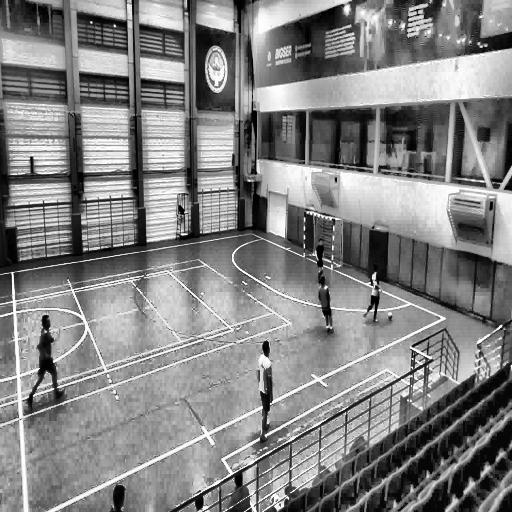ball: (388, 312, 392, 319)
player: (28, 313, 66, 405), (258, 342, 273, 444), (363, 264, 381, 322), (318, 275, 333, 334), (315, 240, 325, 284)
